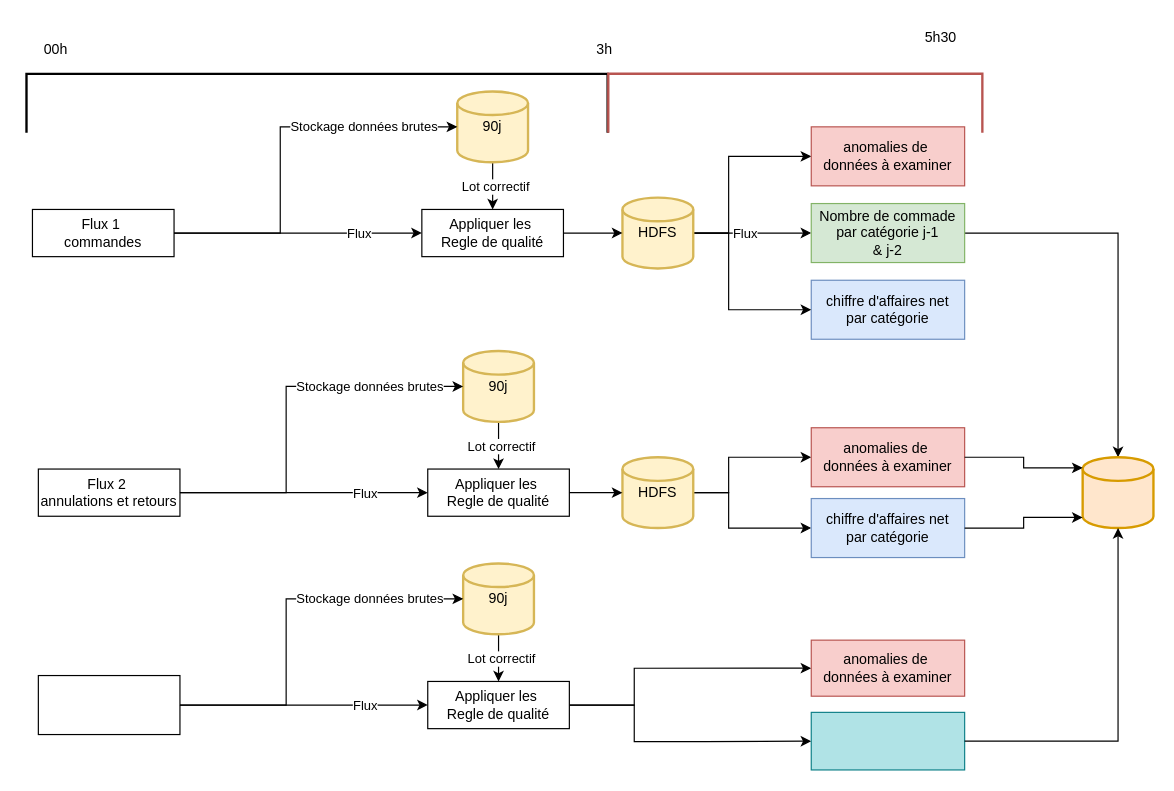
This 1174x791 diagram has some shape labels left out. The centre of each missing label's shape, as x and y in pixels:
"2 ans" belongs at [1117,492].
"Flux 3 consultations de produits" belongs at [108,704].
"les cinq produits les plus consultés par catégorie" belongs at [887,740].
